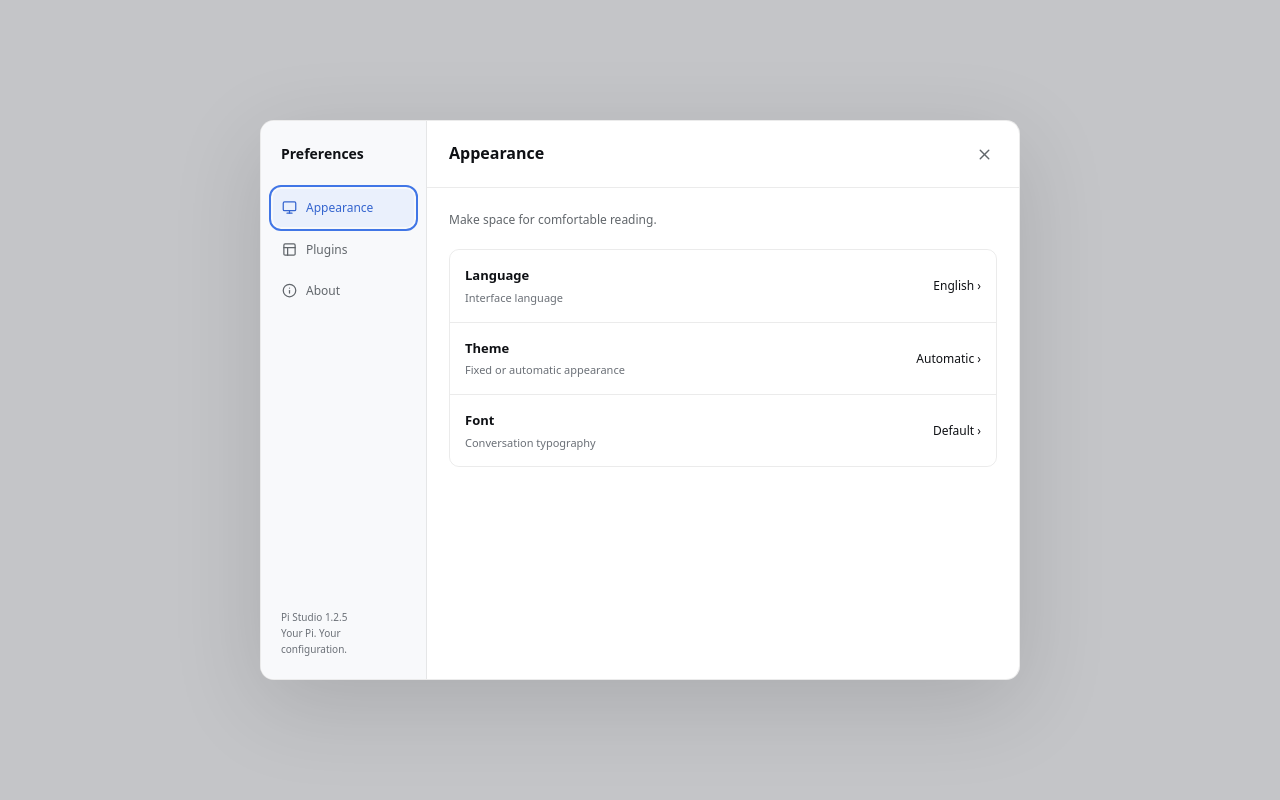
Scenario: keeps both font sample lines in the en interface
What coordinates should you click on to do the following:
click the button "Font Conversation typography Default ›"
I would click on:
 (530, 442)
Its box is [450,394,996,466].
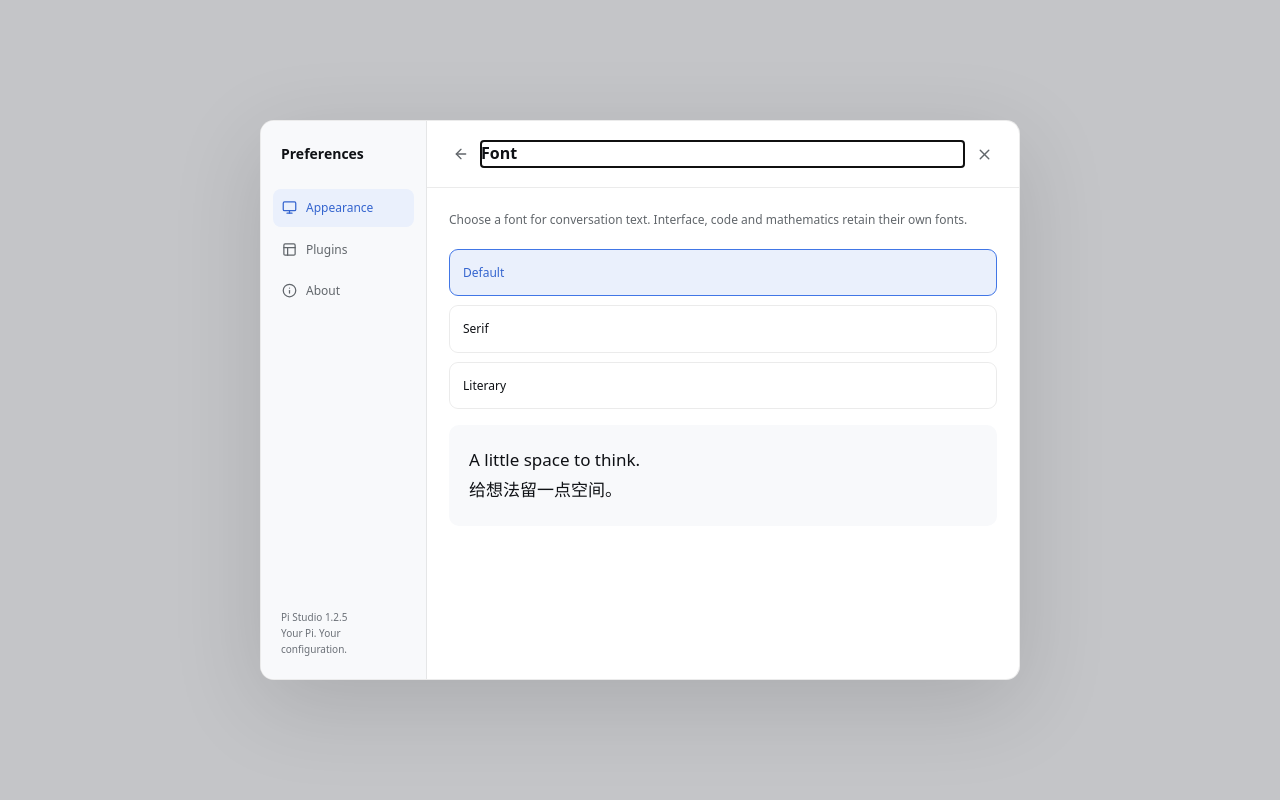
Check: the element named "Font preview" reads "A little space to think.给想法留一点空间。", box [449,425,997,526]
